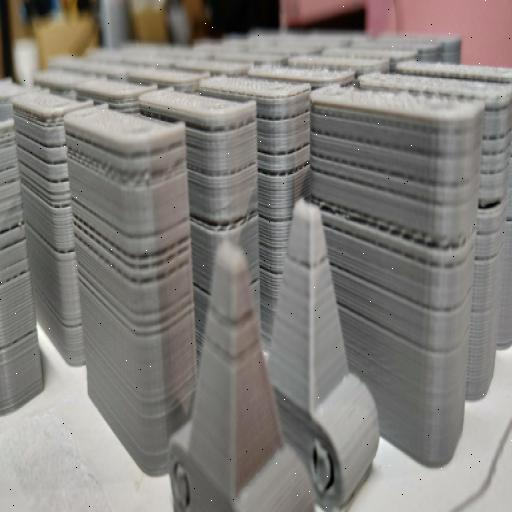cracks: (336, 208, 476, 254), (74, 236, 170, 290), (194, 194, 258, 245)
